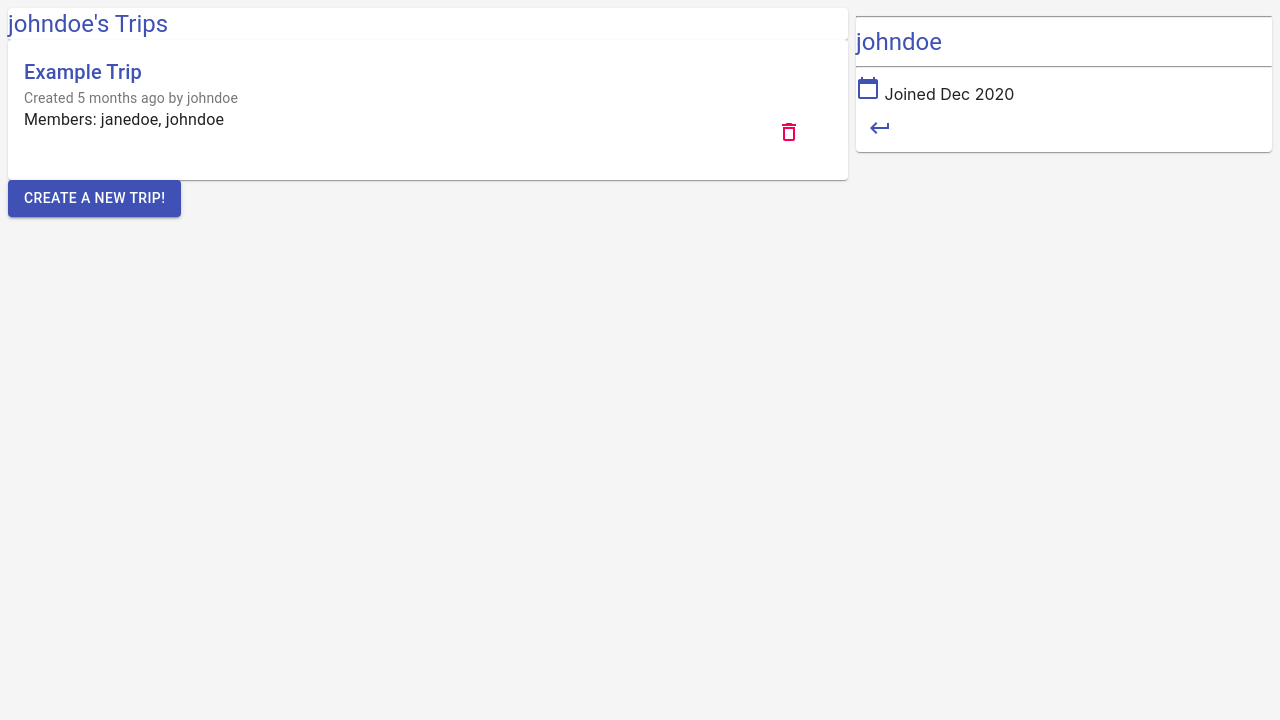
Test case: Trips tests › Renders create new trip dialog when create new trip button clicked
What coordinates should you click on to do the following:
click the button "Create a new trip!"
I would click on:
 (95, 198)
Its box is [8, 180, 181, 216].
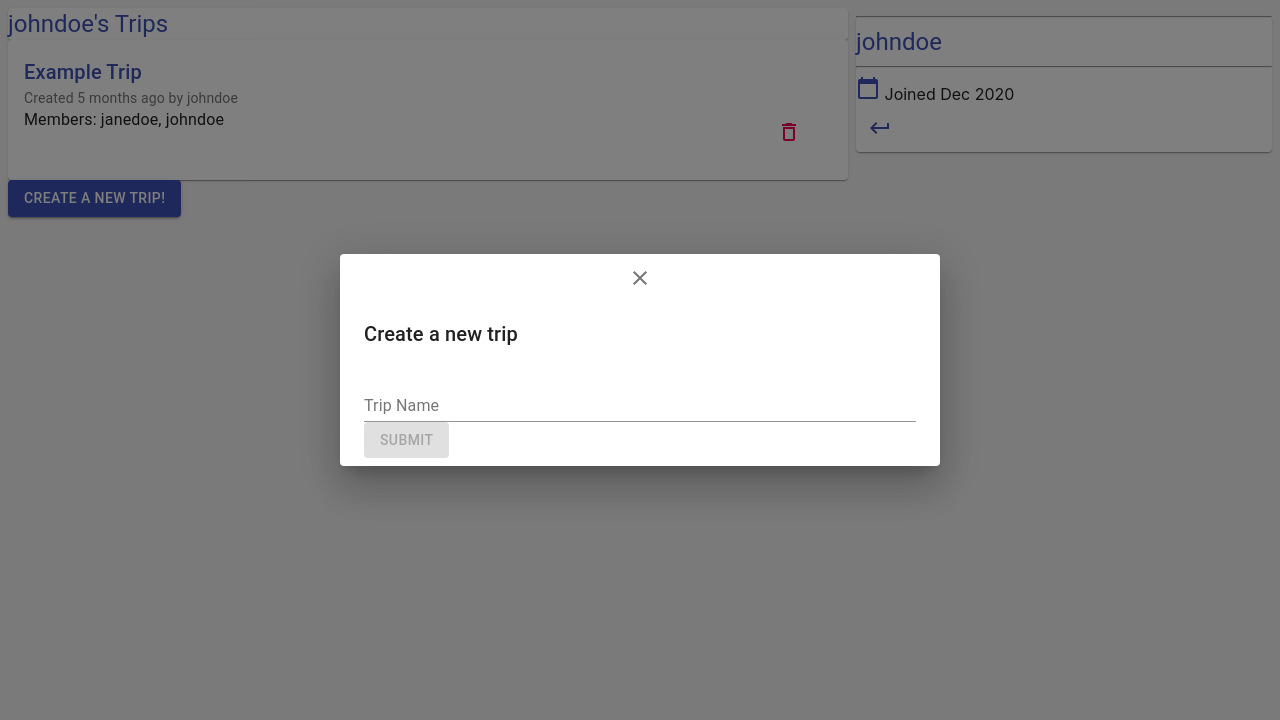
expect the heading "Create a new trip" is shown: met, box [364, 322, 518, 346]
expect the button "Submit" is shown: met, box [364, 422, 449, 458]
expect the text "Trip Name" is shown: met, box [364, 398, 439, 414]
